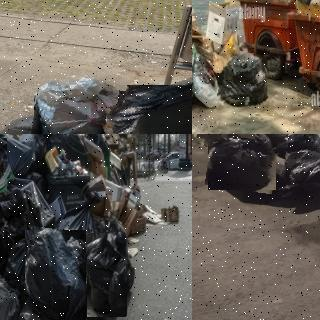Garbage: (21, 228, 89, 320), (31, 72, 124, 134), (106, 76, 192, 134), (206, 134, 278, 192), (87, 233, 127, 317), (219, 50, 270, 108), (279, 145, 320, 204), (0, 106, 83, 134), (37, 134, 88, 162), (0, 199, 18, 264), (276, 134, 320, 160), (254, 134, 288, 149)
